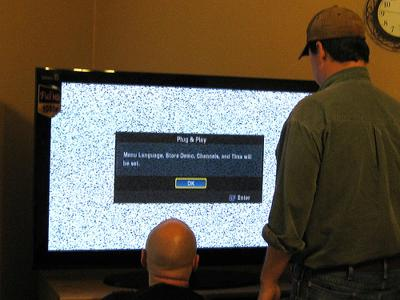person: (258, 6, 399, 300)
